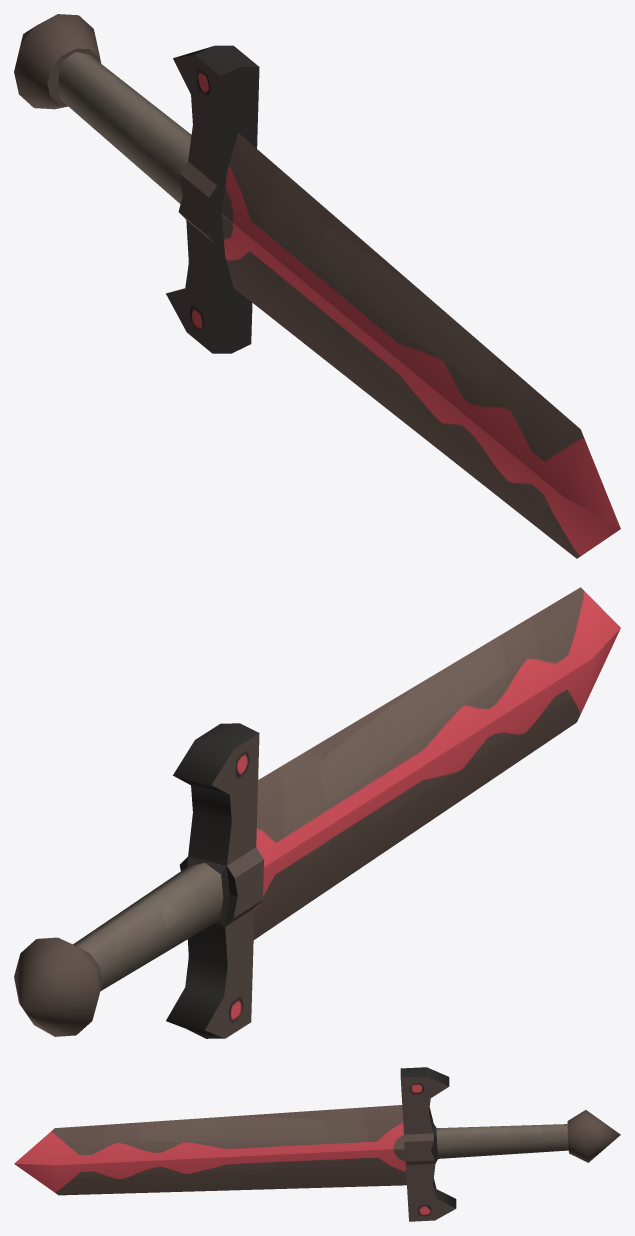
The model's file is Sword.fbx.
3 renders of one model, top to bottom at view 1: azimuth 30°, elevation 25°; view 2: azimuth 150°, elevation 25°; view 3: azimuth 270°, elevation 25°, orthographic. The views are drawn at different scales.
Parts seen in each view (by area): view 1: detailSword_weaponTexture1; view 2: detailSword_weaponTexture1; view 3: detailSword_weaponTexture1.
Boxes of the visible parts, x1,y1,x2,y2 form: detailSword_weaponTexture1: (14,14,620,558); detailSword_weaponTexture1: (14,587,620,1038); detailSword_weaponTexture1: (14,1067,620,1221).
Size of the model in its own units: 0.1354 by 0.4508 by 1.65.
